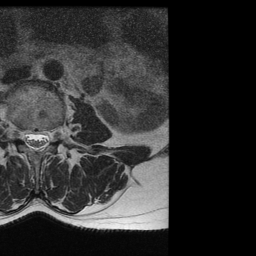CCS_normal: (32, 121, 40, 158)
LFS_normal: (49, 119, 58, 150)
LLS_normal: (40, 122, 49, 156)
RFS_normal: (15, 118, 24, 147)
RLS_normal: (23, 121, 32, 155)
